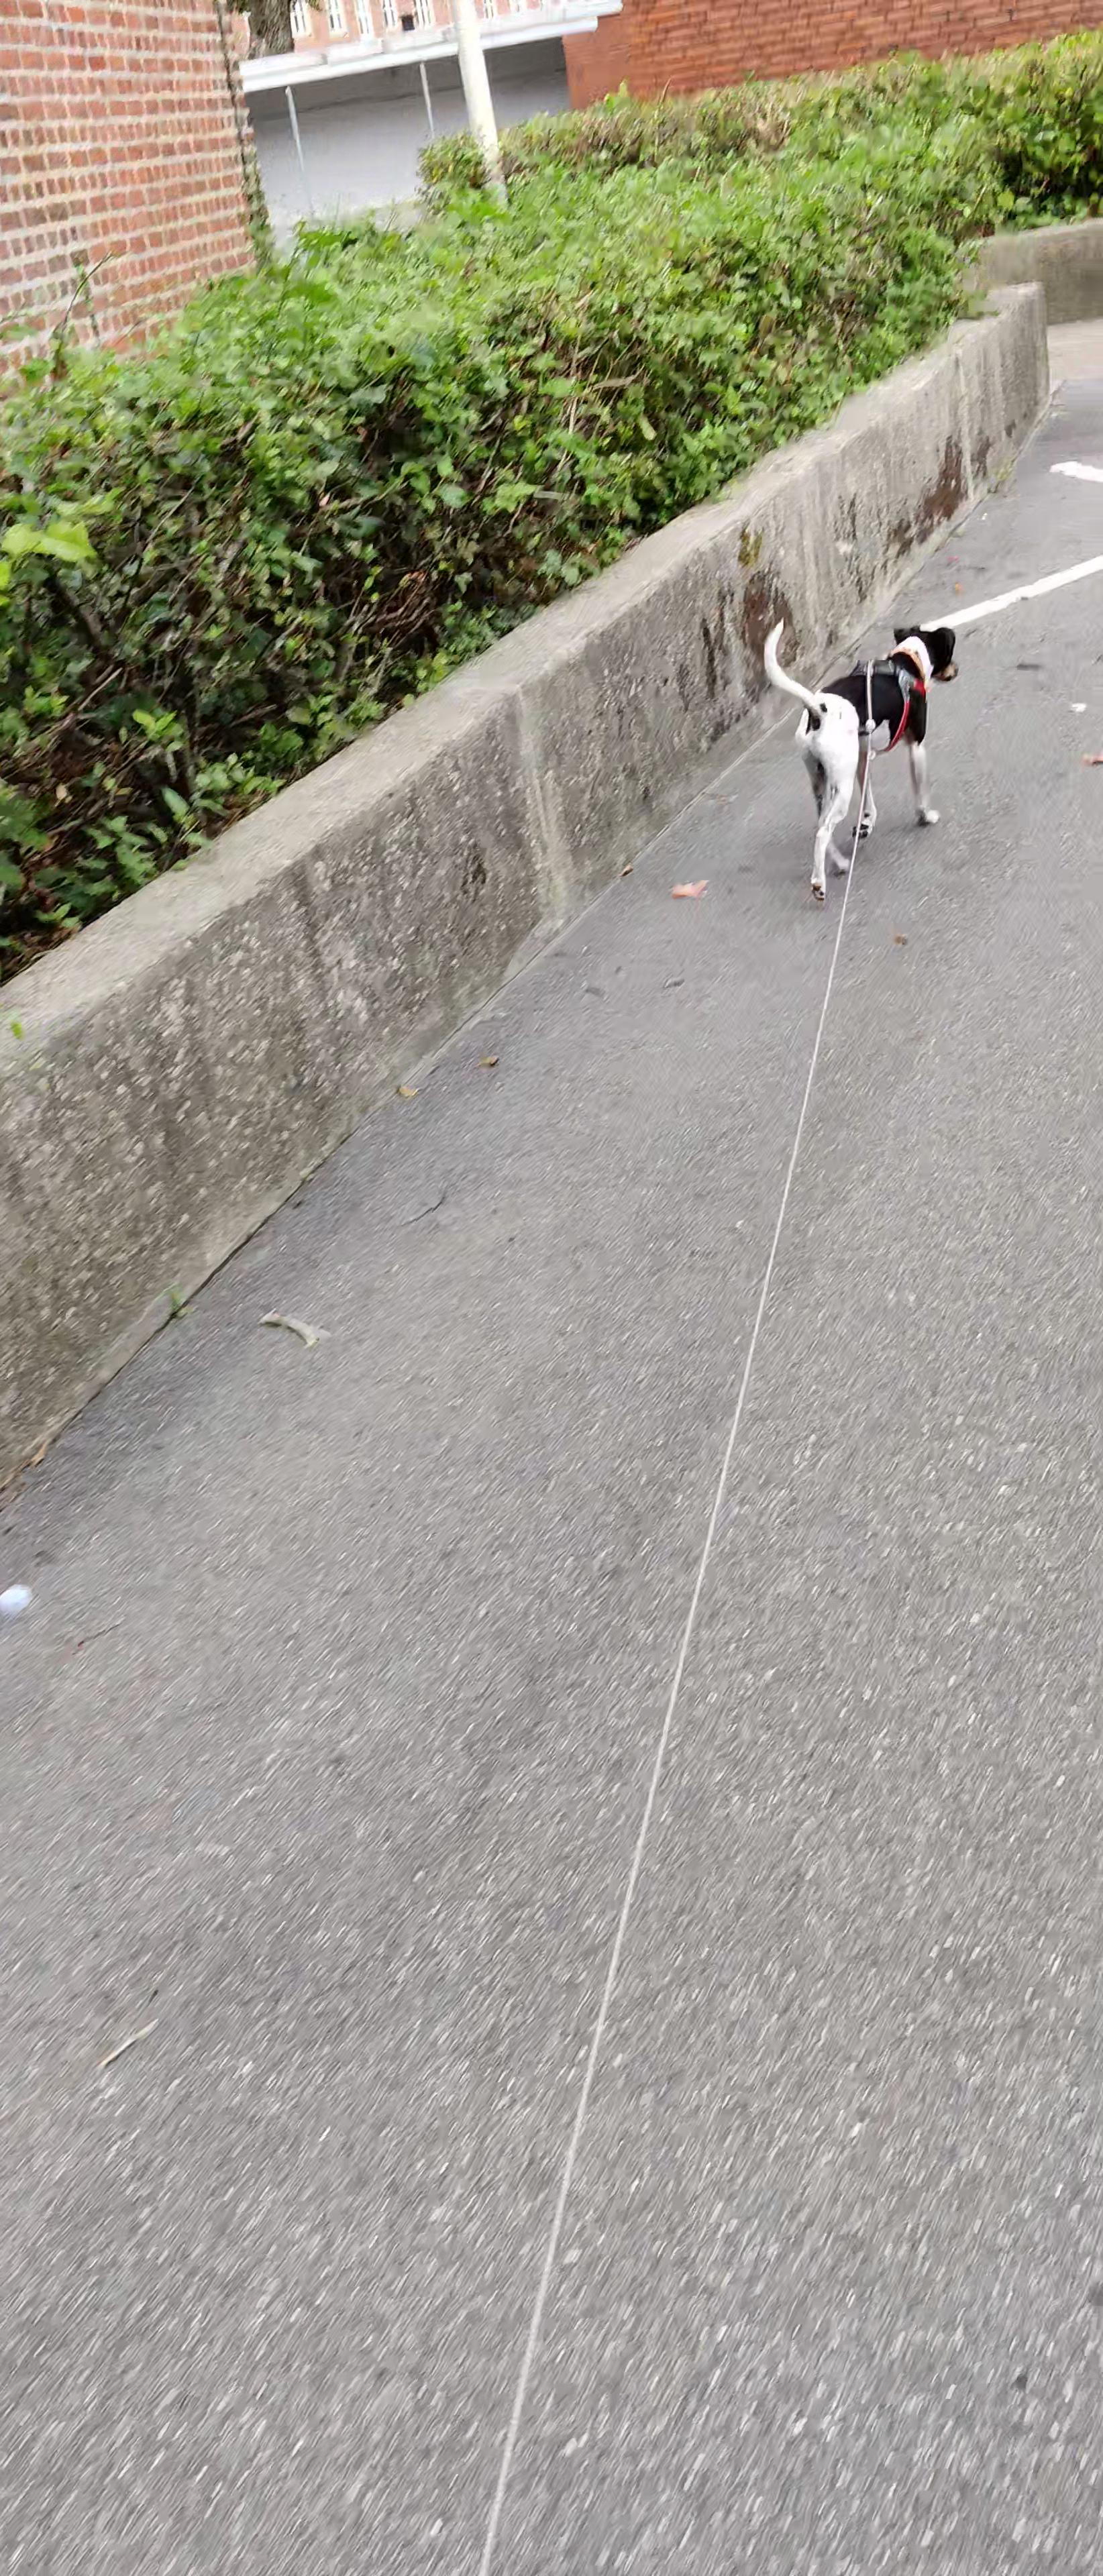Dog: (759, 613, 960, 902)
